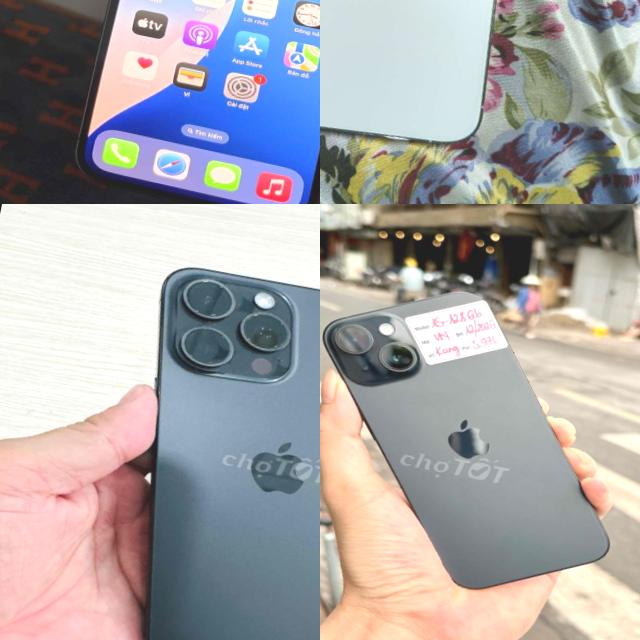gen_12_13: (61, 0, 320, 204), (320, 0, 558, 168)
gen_15: (320, 254, 640, 619), (72, 234, 320, 640)
